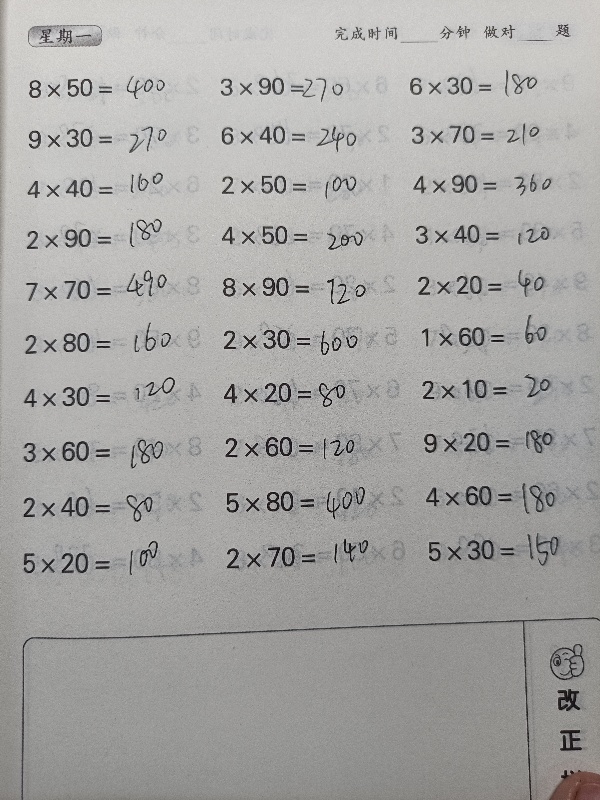equation: (217, 481, 397, 528), (417, 472, 597, 518), (214, 373, 394, 413), (215, 320, 395, 360), (400, 62, 580, 102), (218, 535, 398, 574), (211, 69, 391, 108), (419, 531, 599, 568), (216, 428, 396, 465), (15, 544, 195, 580), (15, 489, 195, 525), (14, 433, 194, 469), (15, 378, 195, 414), (414, 424, 594, 459), (413, 371, 593, 406), (16, 325, 196, 360), (414, 319, 594, 354), (17, 272, 197, 307), (214, 270, 394, 305), (409, 267, 589, 302), (19, 120, 199, 155), (404, 117, 584, 152), (20, 70, 200, 105), (18, 221, 198, 255), (213, 218, 393, 252), (406, 217, 586, 251), (19, 172, 199, 206), (214, 168, 394, 202), (405, 166, 585, 200), (213, 119, 393, 153)
